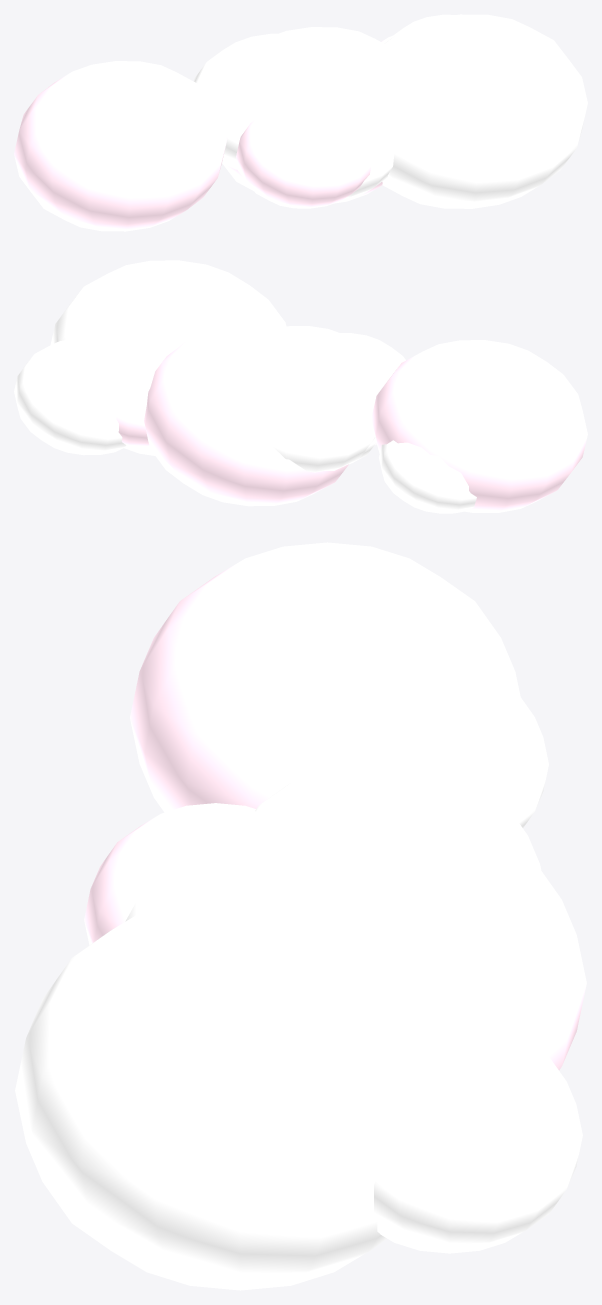
The model's file is hs_cloud_a.glb.
The picture shows the model from 3 angles, top to bottom: view 1: azimuth 30°, elevation 25°; view 2: azimuth 150°, elevation 25°; view 3: azimuth 270°, elevation 25°; orthographic projection. The views are drawn at different scales.
Parts seen in each view (by area): view 1: hs_cloud_a; view 2: hs_cloud_a; view 3: hs_cloud_a.
Part boxes in pixels (bbox=[...]): hs_cloud_a: bbox=[14, 14, 587, 231]; hs_cloud_a: bbox=[14, 260, 587, 513]; hs_cloud_a: bbox=[15, 542, 586, 1290].
Bounding box in the file's own units: 12.71 × 4.34 × 5.97.
Materials: 2 (2 with a texture image).
